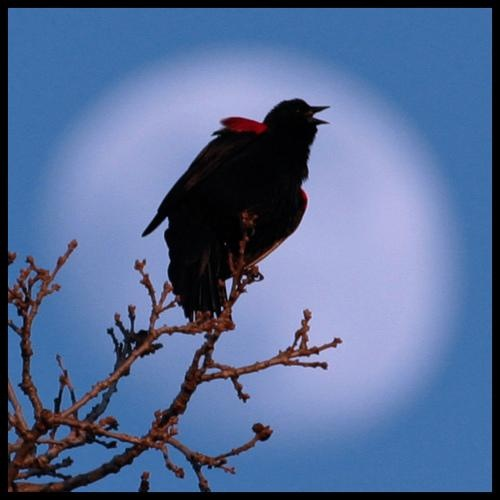bird: (140, 96, 332, 325)
